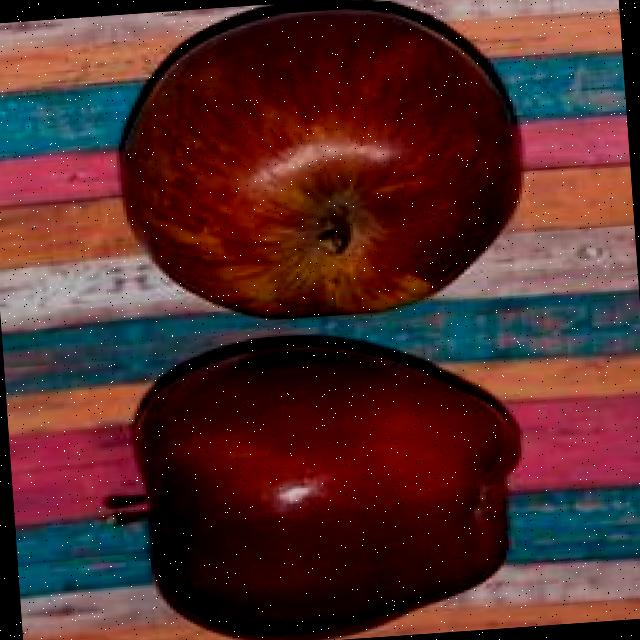apple: (94, 326, 539, 640), (102, 0, 525, 329)
